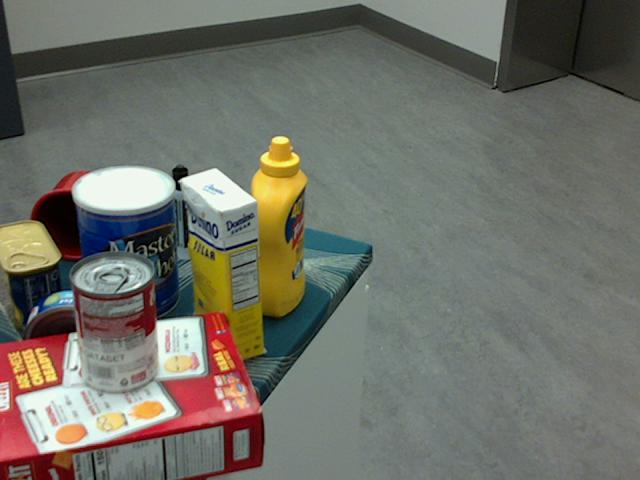cracker_box: (0, 313, 263, 479)
large_marker: (172, 164, 192, 259)
master_chef_can: (70, 165, 178, 326)
mug: (27, 170, 118, 261)
mustard_bottle: (247, 134, 307, 317)
potted_meat_can: (0, 219, 66, 334)
sugar_box: (181, 166, 263, 364)
tomato_soup_can: (68, 252, 157, 393)
tuna_fish_can: (22, 290, 117, 381)
